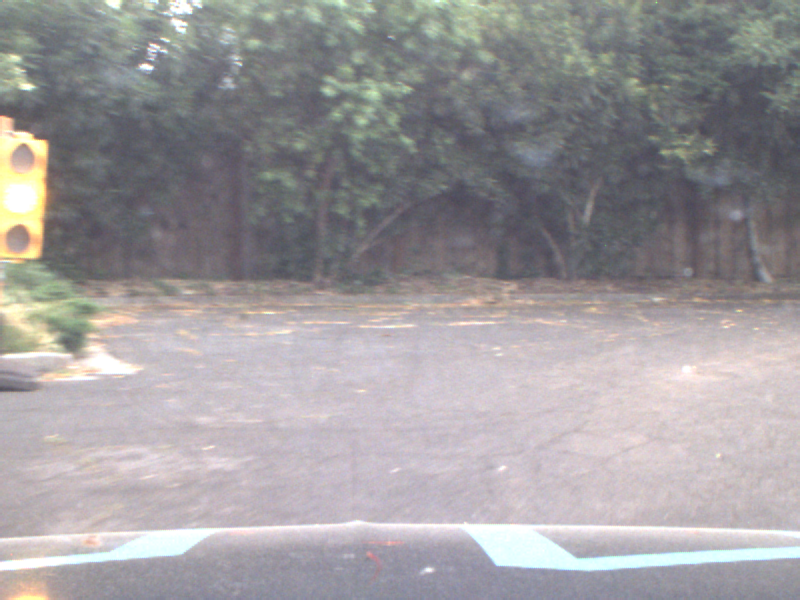Yellow: (1, 136, 47, 250)
